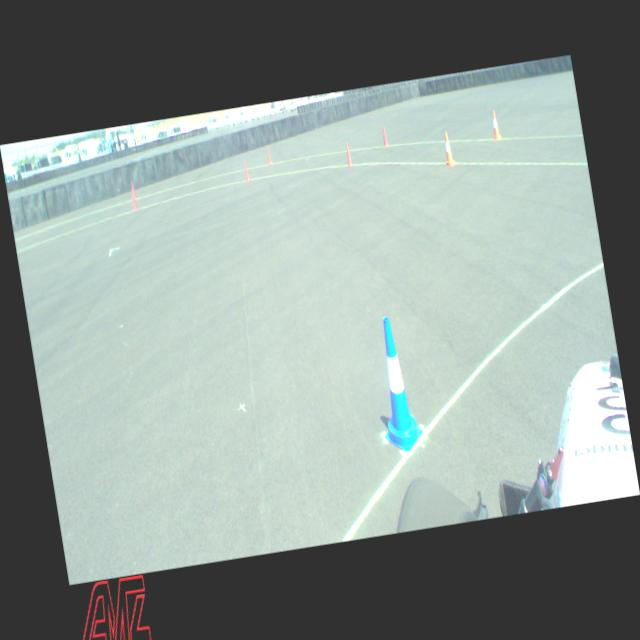blue_cone: (368, 315, 426, 454)
orange_cone: (441, 132, 455, 166), (490, 110, 501, 139)
unknown_cone: (344, 143, 354, 167), (381, 126, 389, 146), (130, 190, 138, 210), (243, 160, 250, 182), (266, 148, 272, 165), (132, 182, 136, 200)
